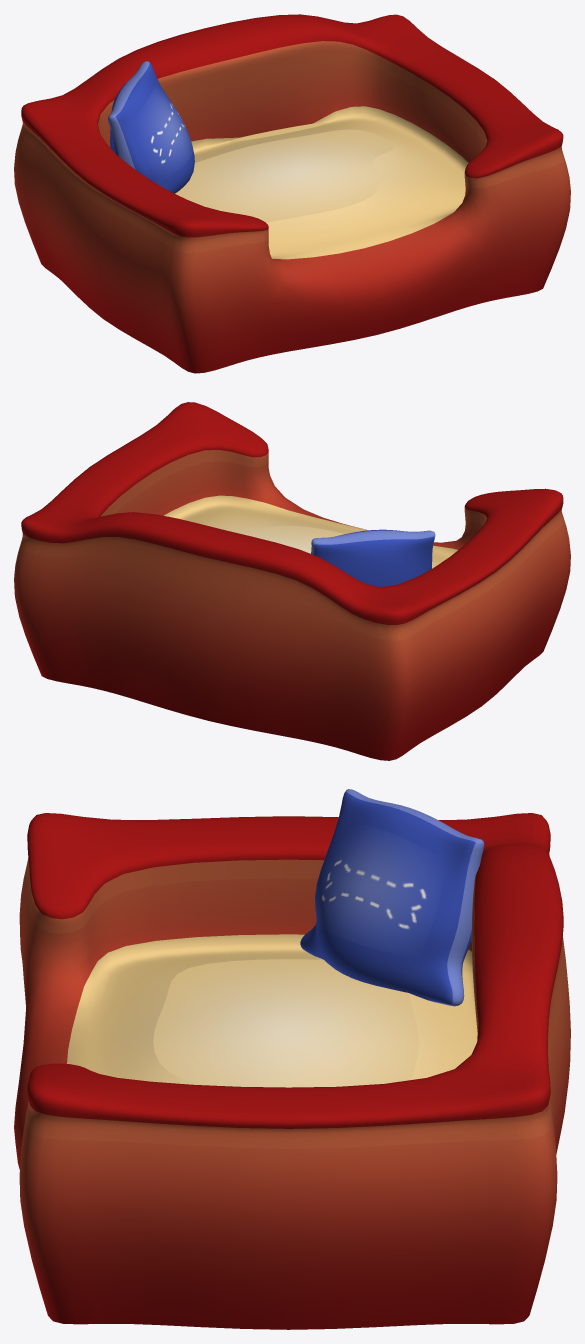
The model's file is Bed.fbx.
3 views of the same model, one above another, from view 1: azimuth 30°, elevation 25°; view 2: azimuth 150°, elevation 25°; view 3: azimuth 270°, elevation 25° (orthographic). The views are drawn at different scales.
Visible parts, largest first — view 1: Bed; view 2: Bed; view 3: Bed.
Boxes of the visible parts, x1,y1,x2,y2 form: Bed: (14,14,570,373); Bed: (14,402,570,760); Bed: (14,789,570,1329).
Size of the model in its own units: 217 by 93.22 by 163.
